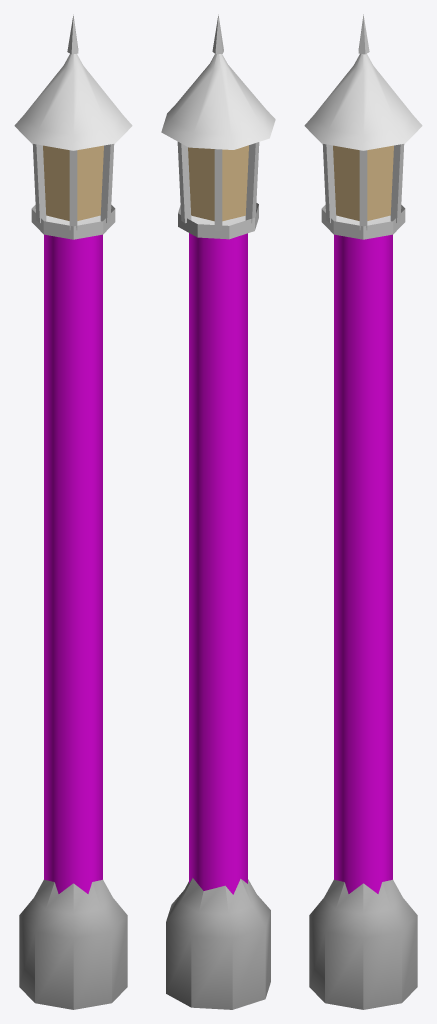
Rendered from lamp_post.glb.
3 views of the same model, side by side, from view 1: azimuth 90°, elevation 25°; view 2: azimuth 150°, elevation 25°; view 3: azimuth 270°, elevation 25° (orthographic).
Parts seen in each view (by area): view 1: lamp_post_hull, lamp_post; view 2: lamp_post_hull, lamp_post; view 3: lamp_post_hull, lamp_post.
Boxes of the visible parts, x1,y1,x2,y2 form: lamp_post_hull: (44,234,102,893); lamp_post: (14,14,132,1009); lamp_post_hull: (189,233,247,894); lamp_post: (161,14,275,1009); lamp_post_hull: (334,234,392,893); lamp_post: (304,14,422,1009).
Size of the model in its own units: 0.48 by 4.35 by 0.48.
